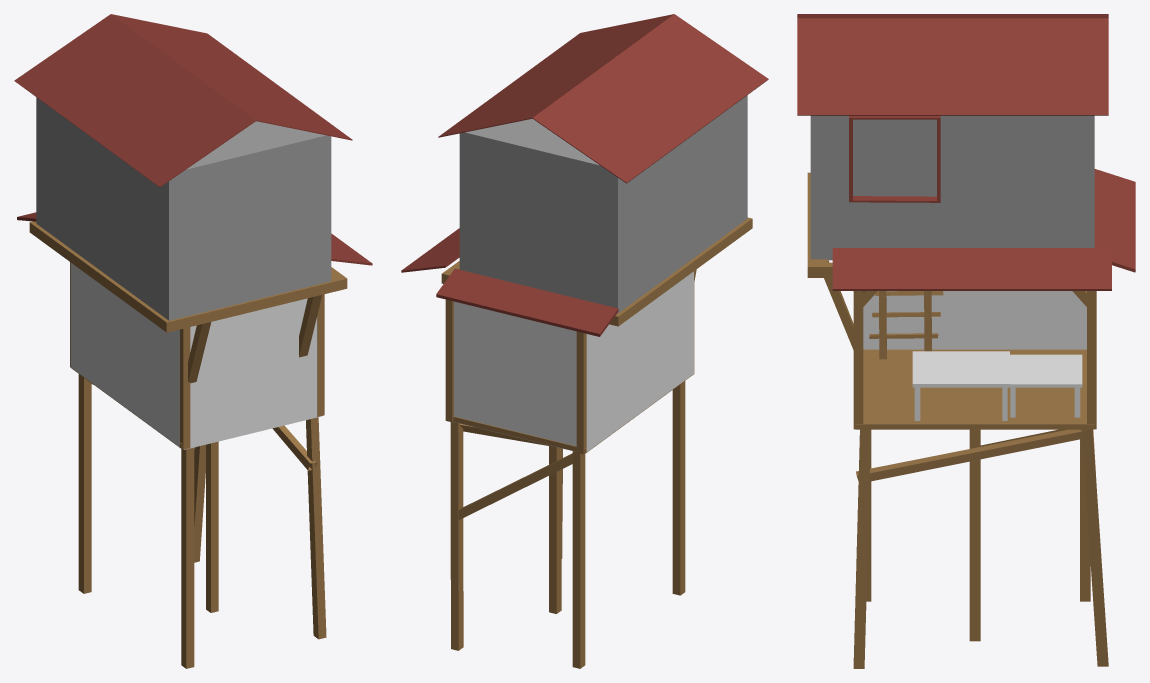
Rendered from 1stHouse.fbx.
The picture shows the model from 3 angles, left to right: view 1: azimuth 30°, elevation 25°; view 2: azimuth 150°, elevation 25°; view 3: azimuth 270°, elevation 25°; orthographic projection. The views are drawn at different scales.
Parts seen in each view (by area): view 1: UpperBLD, UpperRoof, WallLeft, HouseStand, WallBack, Cube.002, Cube.004, Cube.003, Cube.012, Cube.013, Rails; view 2: UpperBLD, UpperRoof, WallRight, HouseStand, WallBack, Rails.001, Cube.002, Cube.006, Rails, Cube.005, Cube.009; view 3: UpperBLD, UpperRoof, HouseStand, Rails, Cube.009, WallBack, Table, Rails.001, Small Table, Ladder, Window_1stHouse, Cube.003 (+3 smaller).
Boxes of the visible parts, bbox=[...] form: UpperBLD: bbox=[36, 97, 331, 320]; UpperRoof: bbox=[14, 14, 352, 187]; WallLeft: bbox=[184, 298, 322, 449]; HouseStand: bbox=[78, 374, 326, 668]; WallBack: bbox=[70, 263, 179, 446]; Cube.002: bbox=[29, 221, 347, 332]; Cube.004: bbox=[180, 327, 190, 449]; Cube.003: bbox=[317, 294, 324, 416]; Cube.012: bbox=[299, 295, 321, 357]; Cube.013: bbox=[188, 322, 211, 383]; Rails: bbox=[331, 233, 372, 265]; UpperBLD: bbox=[459, 95, 747, 313]; UpperRoof: bbox=[438, 14, 768, 183]; WallRight: bbox=[454, 301, 576, 451]; HouseStand: bbox=[450, 381, 685, 668]; WallBack: bbox=[586, 271, 693, 451]; Rails.001: bbox=[436, 268, 618, 336]; Cube.002: bbox=[441, 217, 752, 326]; Cube.006: bbox=[576, 331, 586, 454]; Rails: bbox=[401, 228, 459, 272]; Cube.005: bbox=[445, 299, 453, 422]; Cube.009: bbox=[453, 369, 694, 453]; UpperBLD: bbox=[810, 115, 1094, 260]; UpperRoof: bbox=[797, 14, 1108, 115]; HouseStand: bbox=[853, 429, 1108, 668]; Rails: bbox=[832, 248, 1111, 290]; Cube.009: bbox=[855, 349, 1094, 429]; WallBack: bbox=[863, 291, 1086, 349]; Table: bbox=[912, 351, 1009, 420]; Rails.001: bbox=[1094, 169, 1135, 272]; Small Table: bbox=[1010, 354, 1082, 417]; Ladder: bbox=[869, 291, 943, 359]; Window_1stHouse: bbox=[849, 115, 940, 202]; Cube.003: bbox=[853, 291, 863, 429].
Size of the model in its own units: 325 by 763 by 387.
